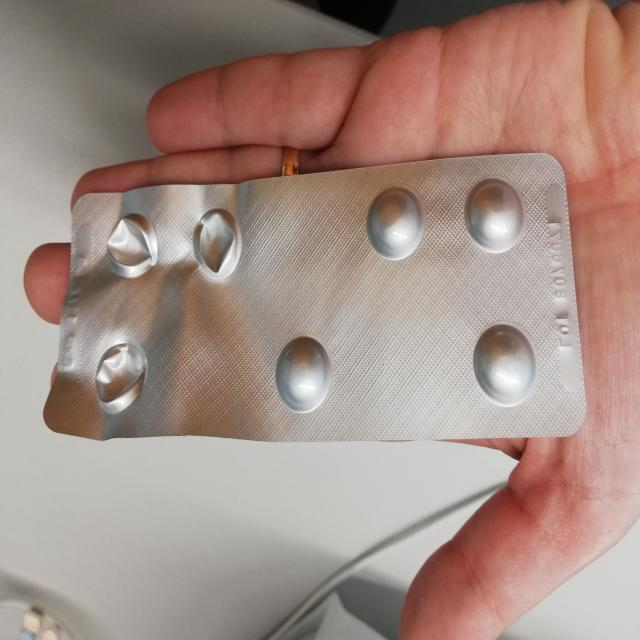Empty: (89, 334, 150, 418), (101, 208, 164, 284), (188, 202, 245, 285)
Pill: (470, 317, 540, 411), (361, 180, 429, 264), (271, 329, 336, 416), (461, 172, 526, 259)
